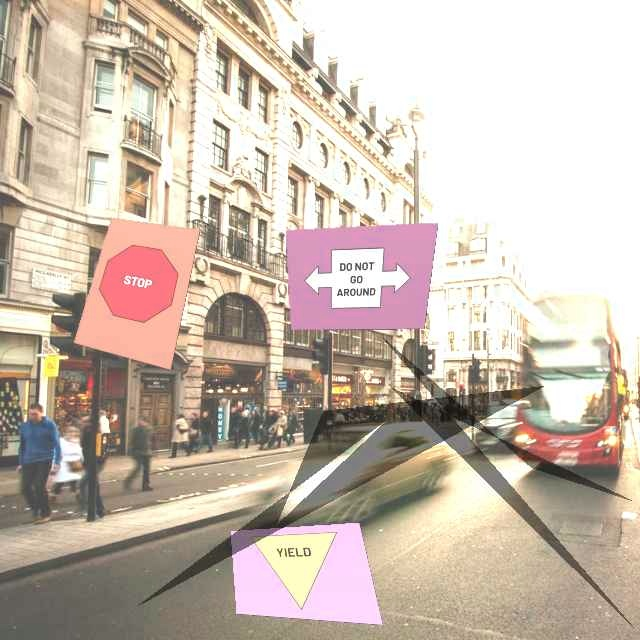DO_NOT_GO_AROUND: (303, 246, 414, 309)
STOP: (92, 238, 183, 329)
YIELD: (250, 532, 354, 615)
